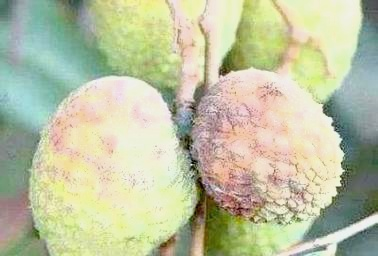Frost_Blight: (53, 86, 164, 189), (189, 94, 294, 196)
